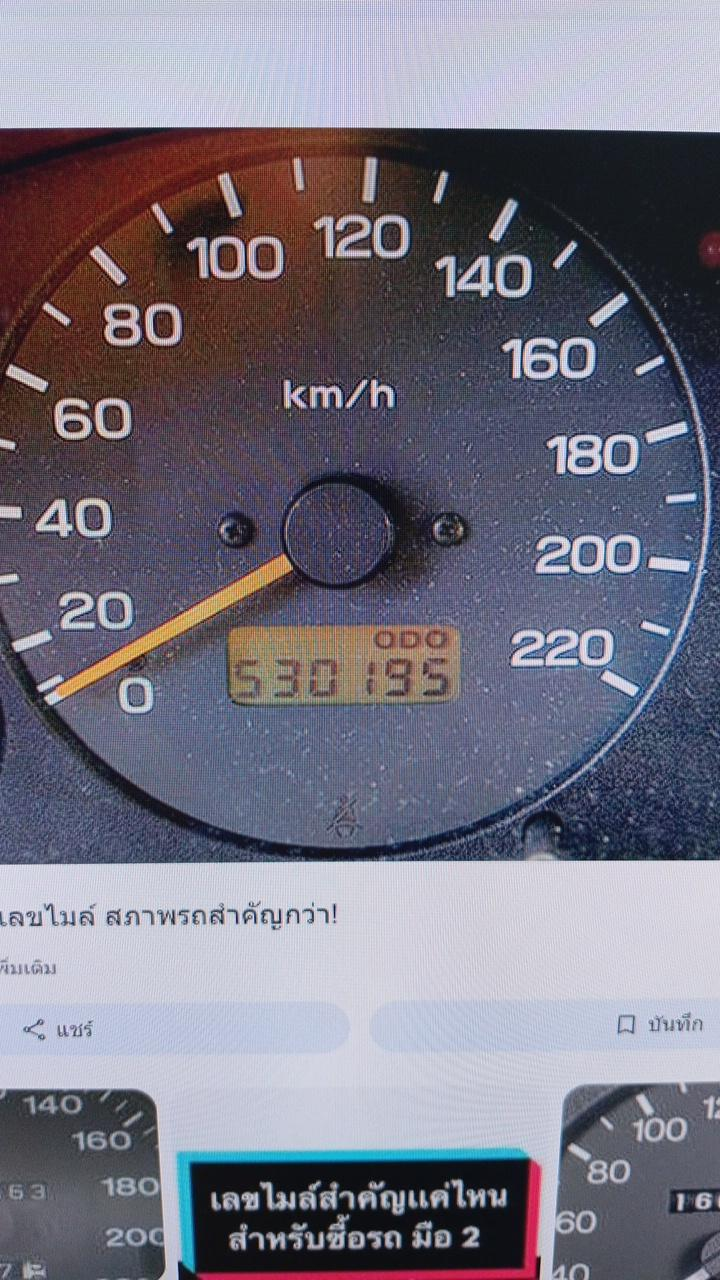0: (308, 656, 338, 697)
1: (363, 660, 377, 697)
3: (272, 657, 300, 699)
5: (422, 655, 450, 698), (233, 657, 261, 699)
9: (384, 656, 413, 699)
odometer: (225, 621, 463, 708)
